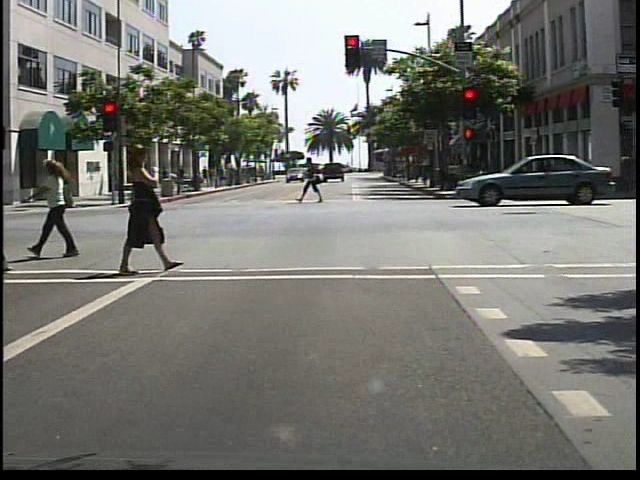person: (113, 137, 183, 276), (37, 157, 90, 263), (299, 156, 328, 205), (1, 146, 6, 282), (172, 163, 188, 192)
